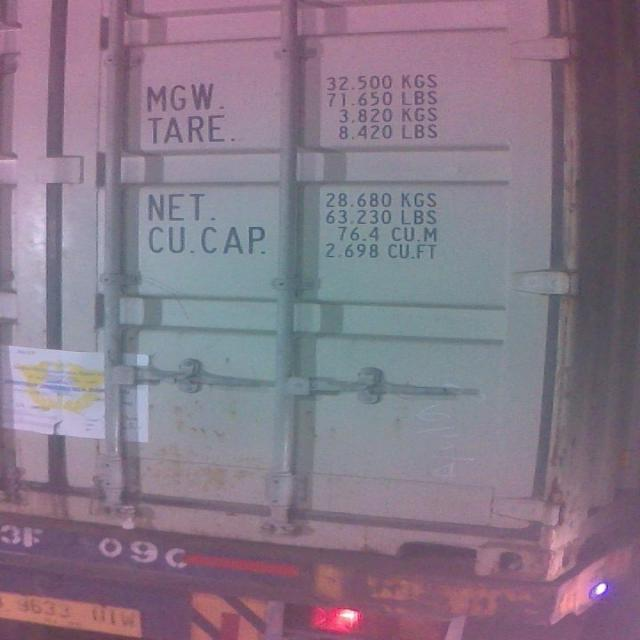seal: (117, 504, 151, 529)
